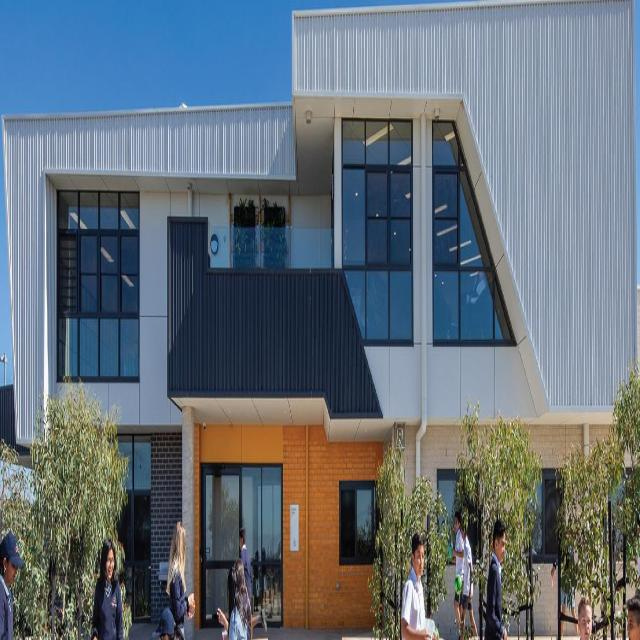Railing: (209, 230, 334, 272)
door: (199, 472, 281, 633)
plant: (366, 407, 542, 640), (1, 385, 130, 640), (546, 374, 636, 639)
wall: (0, 0, 636, 636)
windows: (432, 115, 516, 341), (343, 122, 415, 351), (57, 187, 141, 379), (339, 482, 379, 564), (533, 469, 555, 558), (438, 468, 456, 520)
